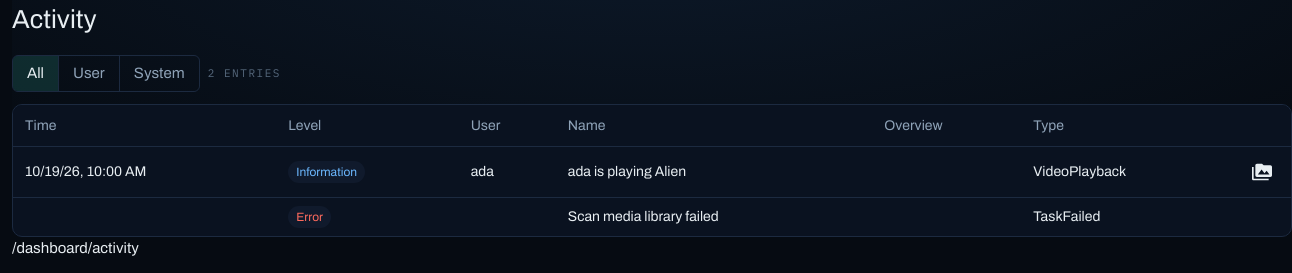
Activity page › shows entries with user names and switches to System through the URL
The width and height of the screenshot is (1292, 273).
Expected: the number of rows with test id "activity-row" is 2, [13,146,1291,197]; [13,197,1291,236]
Expected: the text "ada" is shown, [459,146,556,197]
Click the button "System": (159, 73) [119,56,199,90]
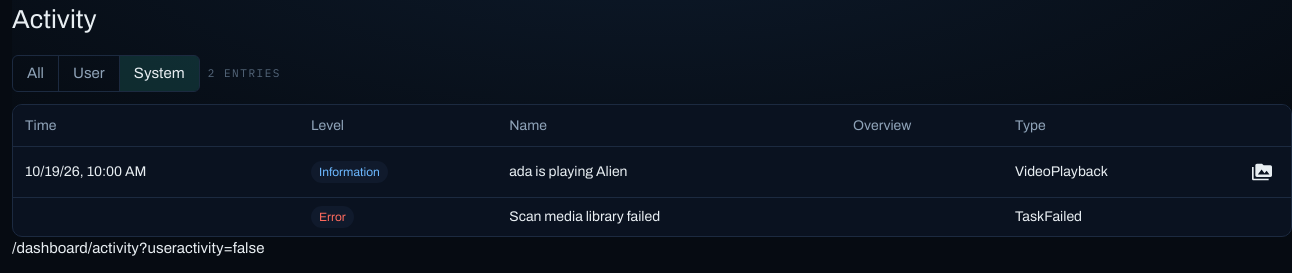
Expected: the text with test id "where" reads "/dashboard/activity?useractivity=false", [12,240,264,256]
